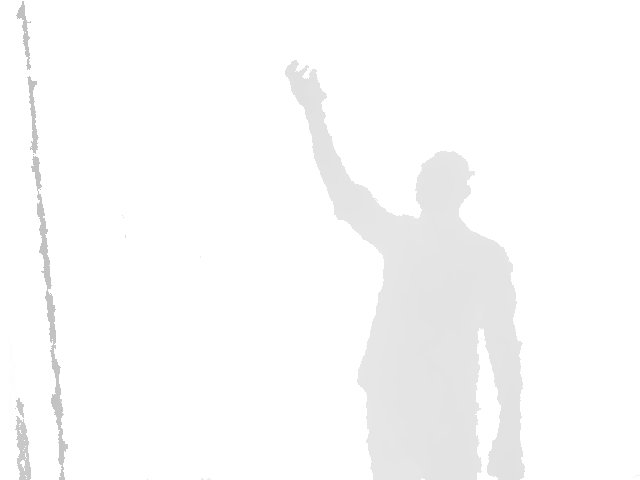hand: (283, 60, 331, 113)
hand_down: (485, 436, 527, 480)
head: (414, 150, 475, 218)
person: (282, 60, 528, 480)
